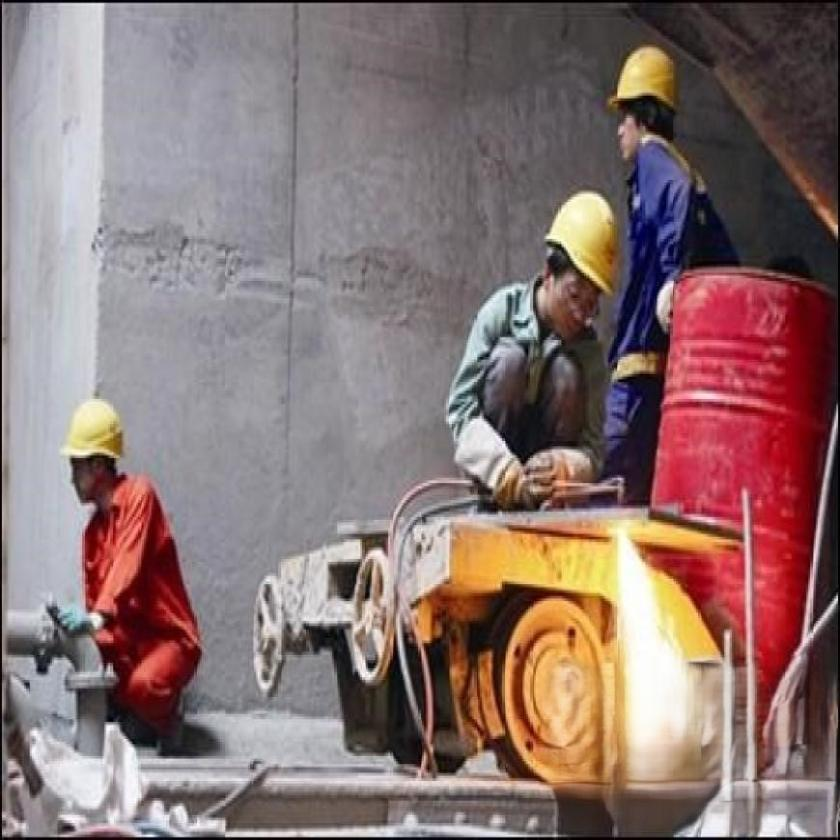Con_casco: (538, 184, 621, 346), (607, 32, 680, 177), (62, 396, 128, 510)
